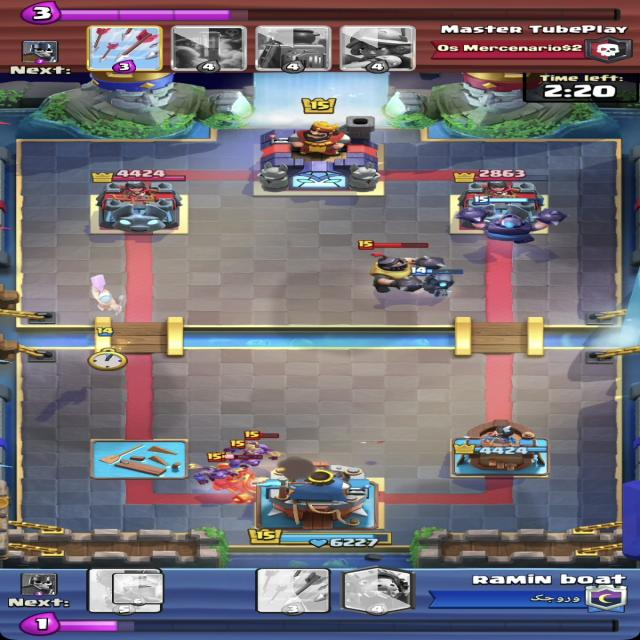Enemy-Hog: (207, 452, 281, 504)
Enemy-MegaKnight: (357, 239, 445, 296)
Enemy-Minion: (189, 452, 240, 484), (242, 430, 288, 461), (229, 439, 264, 467)
Player-MegaKnight: (456, 195, 568, 245)
Player-MiniPEKKA: (400, 267, 466, 298)
